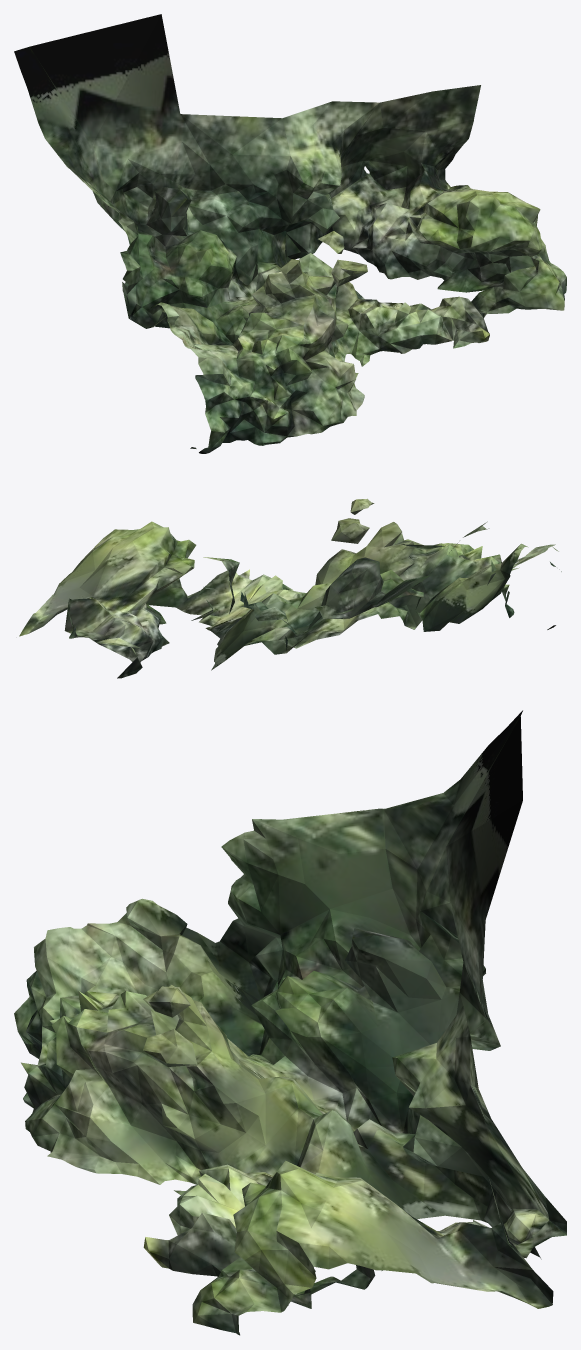
3 views of the same model, one above another, from view 1: azimuth 30°, elevation 25°; view 2: azimuth 150°, elevation 25°; view 3: azimuth 270°, elevation 25° (orthographic). The views are drawn at different scales.
Size of the model in its own units: 52.22 by 30.48 by 43.71.
Materials: 3 (3 with a texture image).
